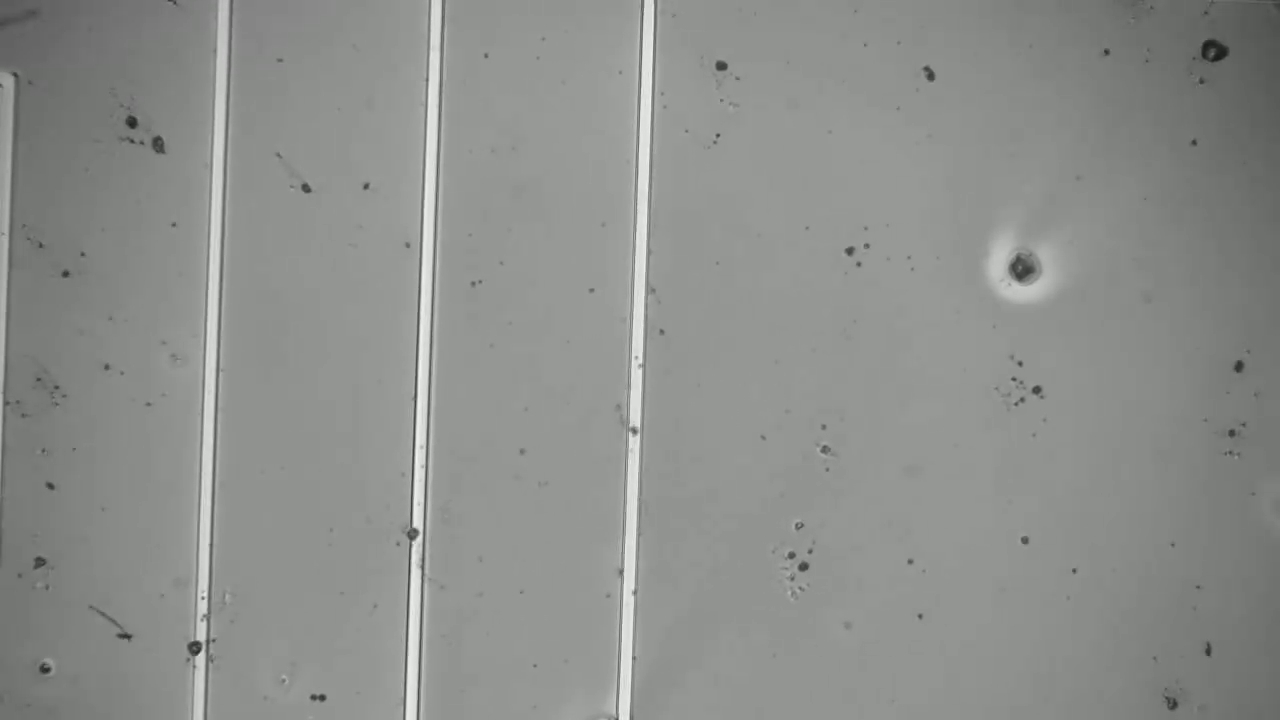stains_enbedded: (178, 630, 219, 667), (399, 517, 435, 549)
